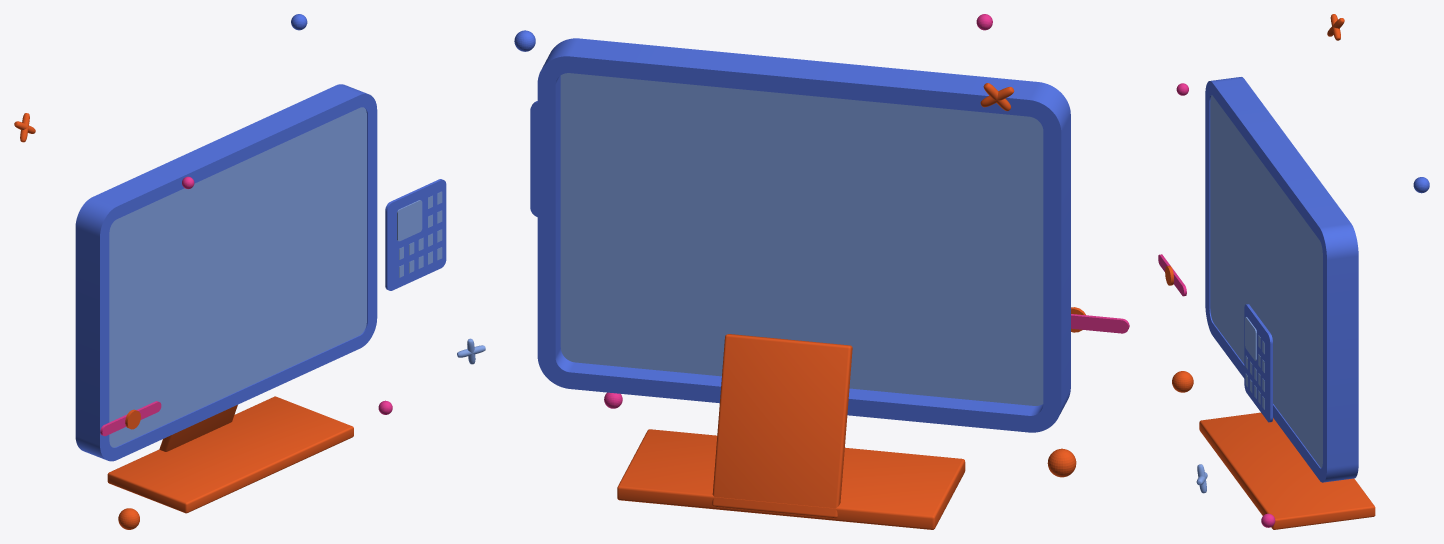
The model's file is computer-3d-animated-icon-444929331394.glb.
3 views of the same model, side by side, from view 1: azimuth 30°, elevation 25°; view 2: azimuth 150°, elevation 25°; view 3: azimuth 270°, elevation 25° (orthographic). The views are drawn at different scales.
Visible parts, largest first — view 1: computer, data.001, slide; view 2: computer, slide, data.001; view 3: computer, data.001, slide, element sphere.003.
Boxes of the visible parts, x1,y1,x2,y2 form: computer: (75, 84, 377, 513); data.001: (385, 179, 446, 290); slide: (100, 401, 161, 436); computer: (537, 38, 1070, 529); slide: (1071, 307, 1129, 333); data.001: (530, 101, 537, 216); computer: (1199, 77, 1375, 529); data.001: (1244, 304, 1272, 422); slide: (1158, 254, 1186, 296); element sphere.003: (1172, 371, 1193, 392).
Size of what is drawn, in the model's own units: 5.38 by 4.71 by 3.13.
